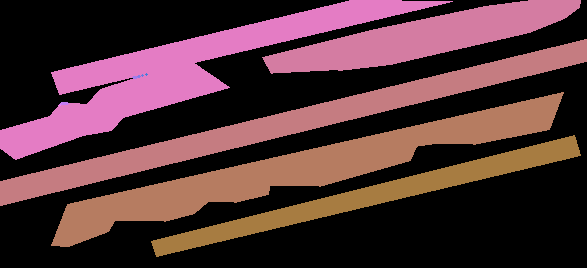parkingspot: (0, 39, 587, 205), (51, 92, 563, 246), (151, 135, 580, 256), (51, 0, 452, 94), (262, 0, 580, 73), (0, 61, 229, 159)
